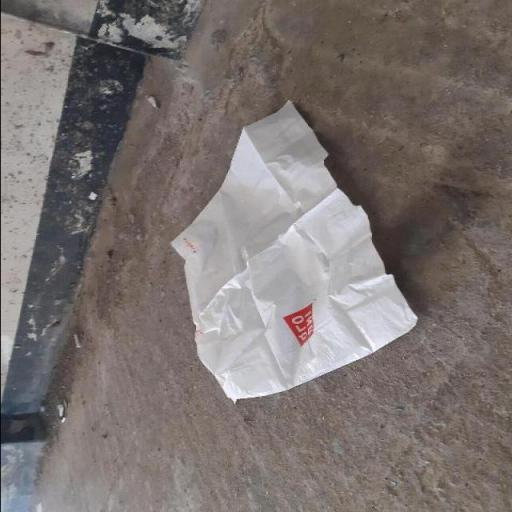plastic-bag: (164, 98, 422, 408)
